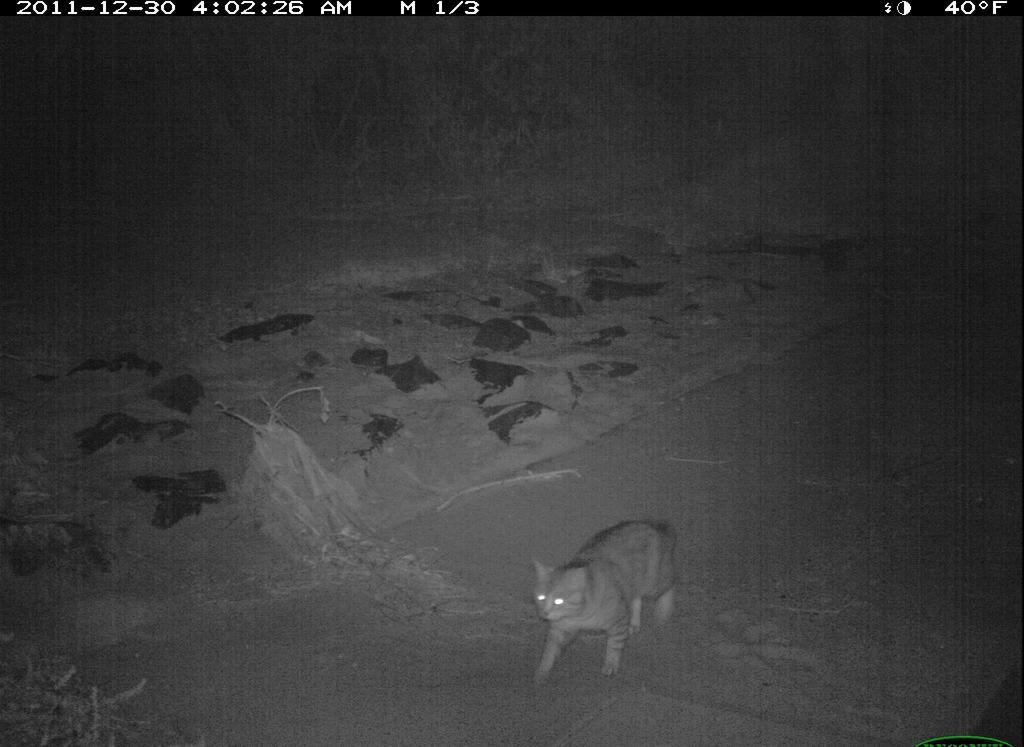cat: (509, 502, 720, 698)
